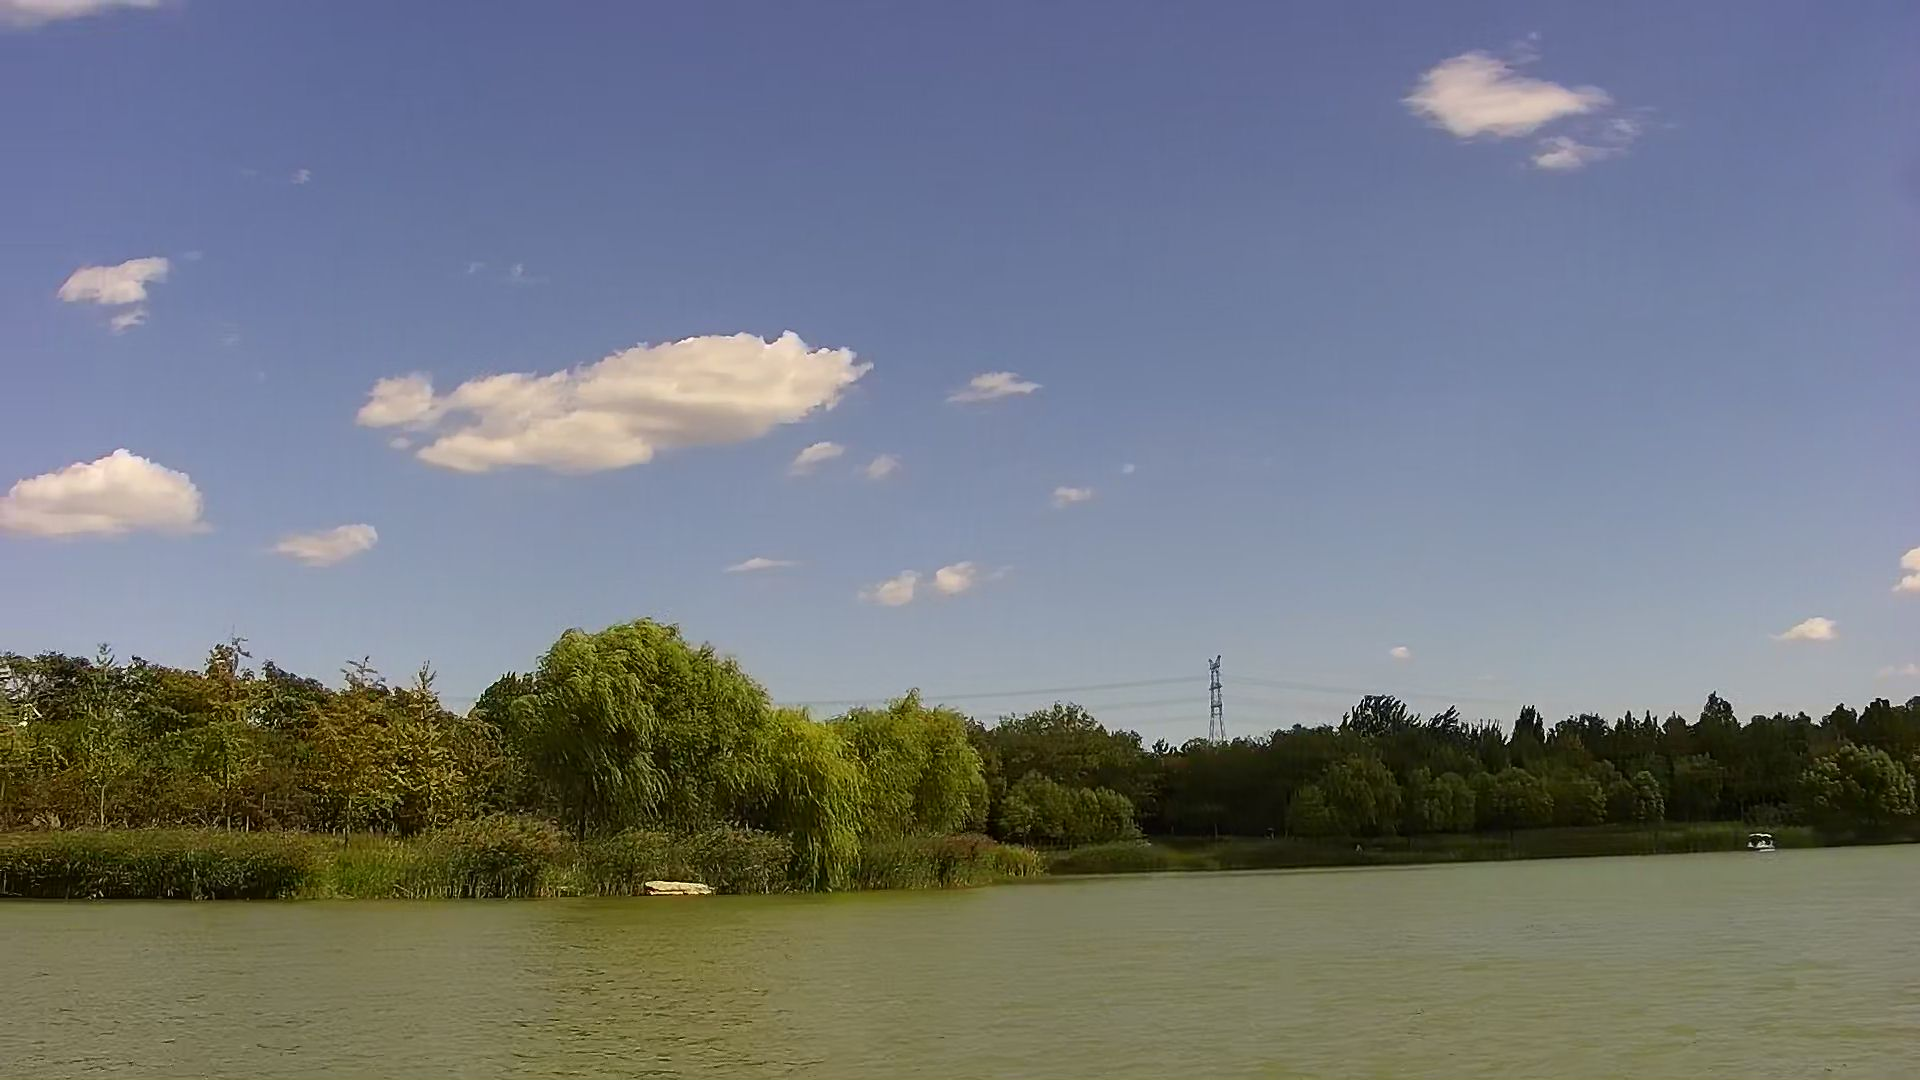boat: (1741, 831, 1782, 853)
